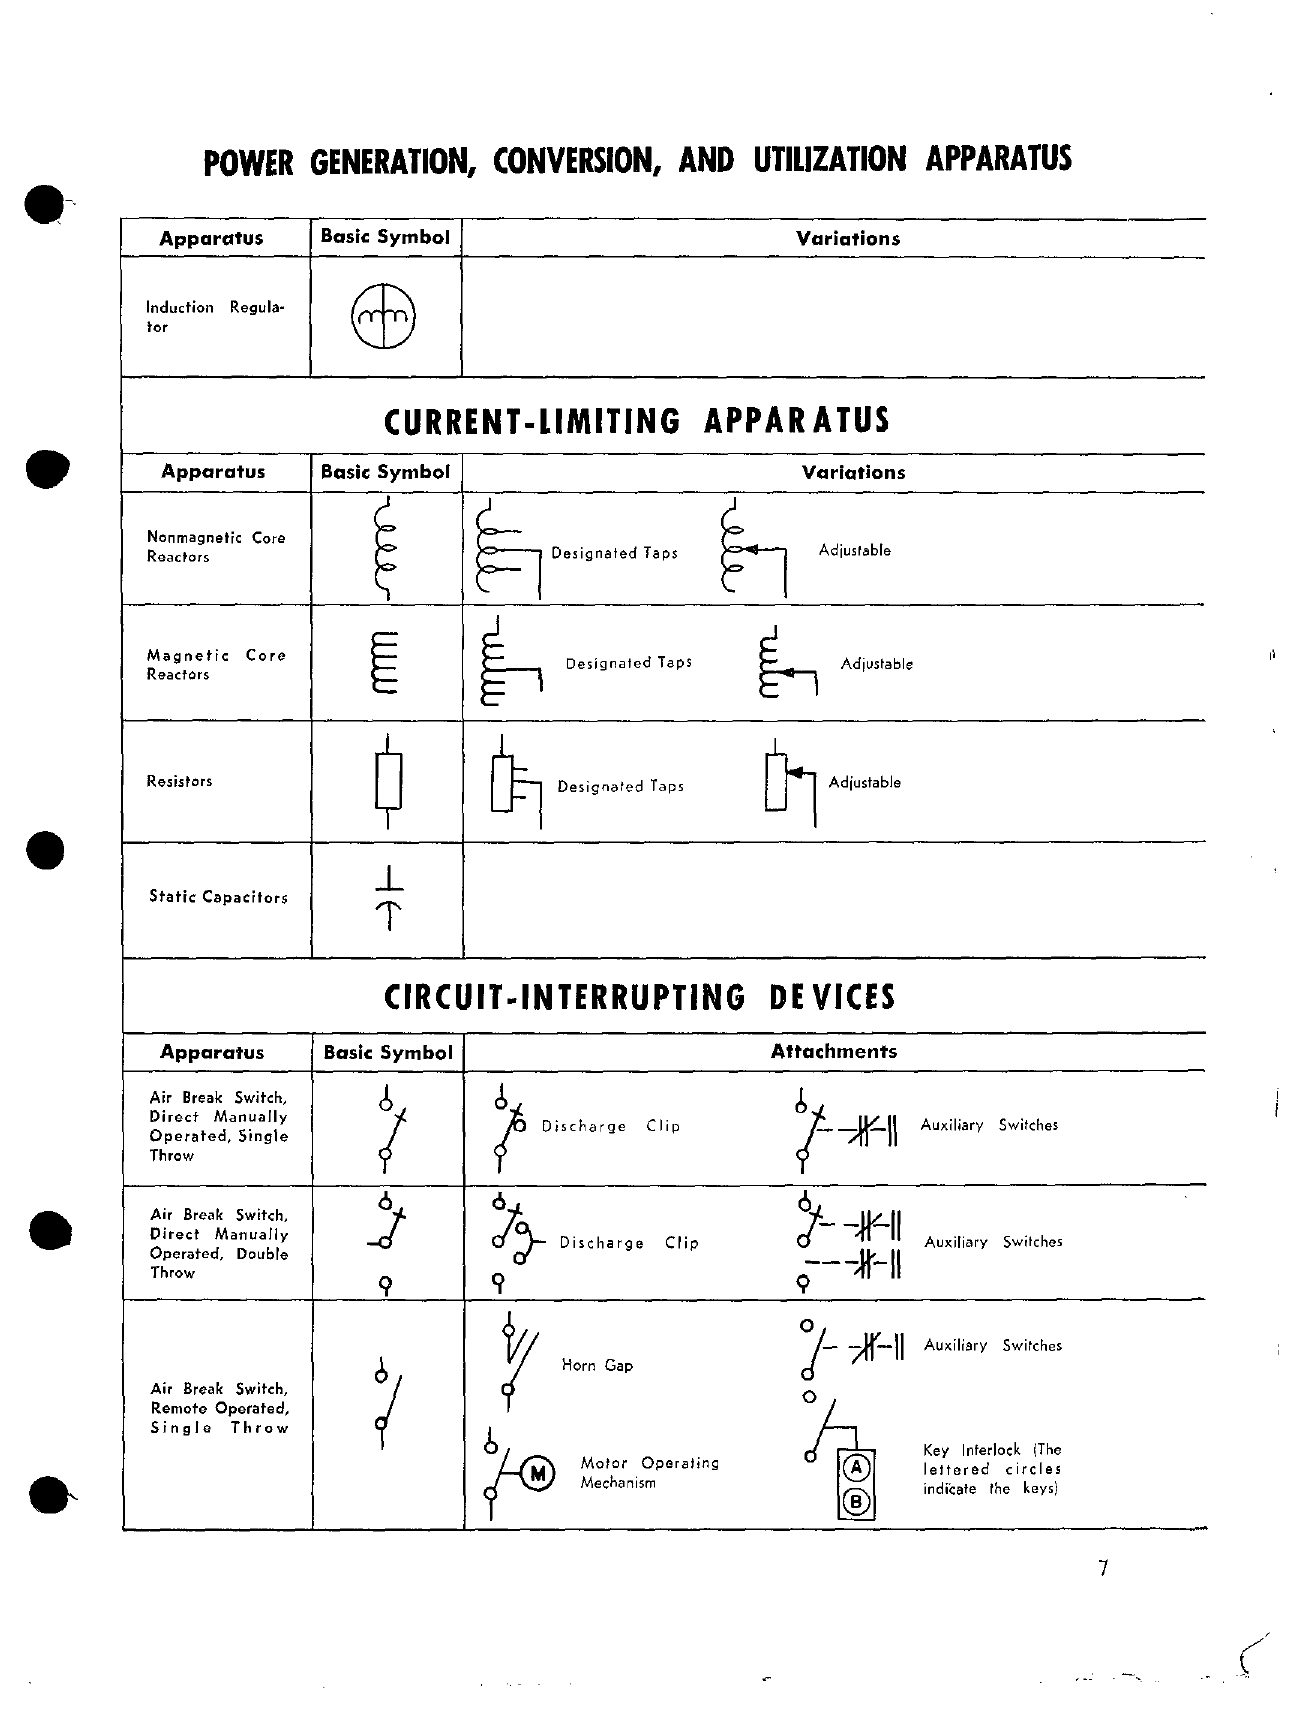switch: (320, 1309, 453, 1473), (311, 1186, 463, 1297), (315, 1074, 460, 1183), (468, 1411, 560, 1523), (475, 1076, 549, 1182), (471, 1190, 546, 1290), (482, 1305, 549, 1406), (773, 1395, 849, 1469), (776, 1082, 840, 1164), (780, 1316, 849, 1390), (778, 1189, 830, 1253)
